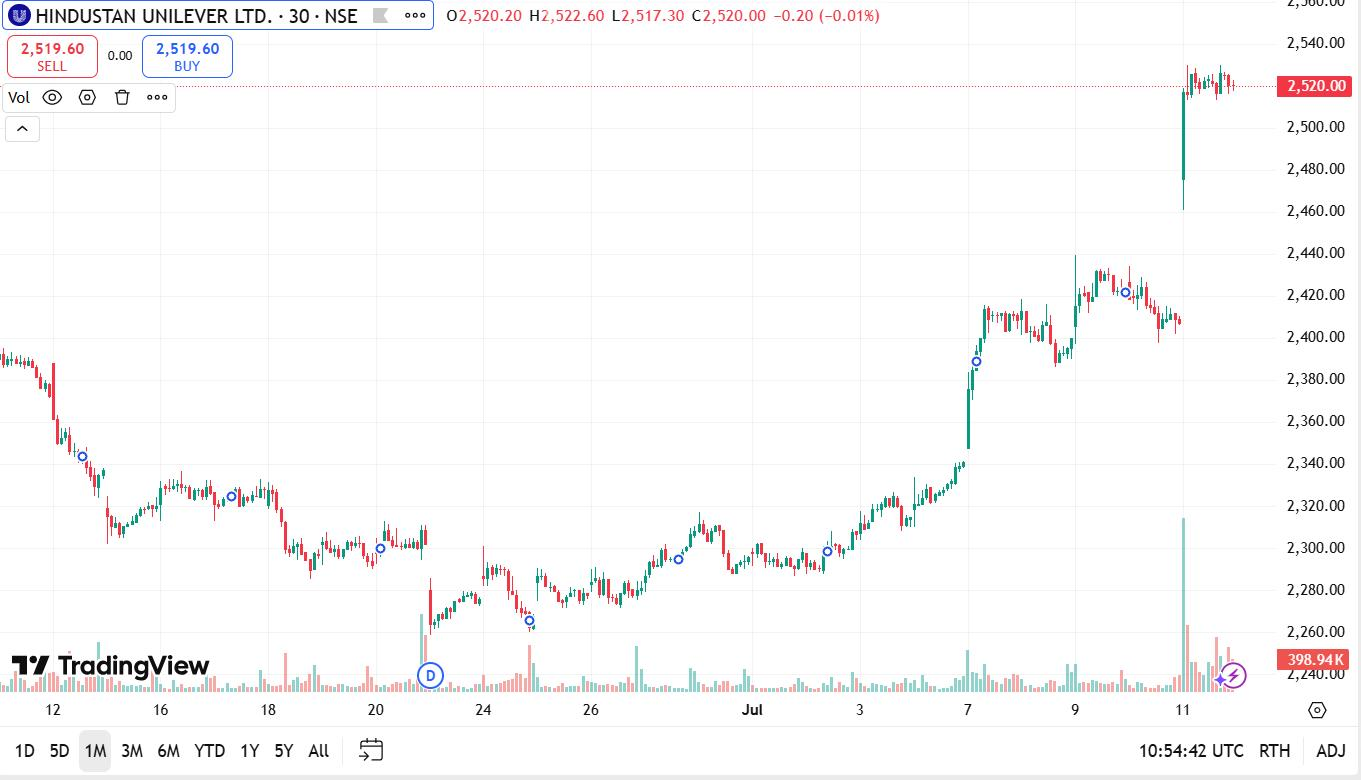Downtrend: (32, 312, 120, 541), (383, 474, 461, 655), (270, 465, 304, 568)
Sideways: (532, 550, 668, 612), (748, 526, 822, 587), (153, 455, 216, 520)
Uptrend: (912, 260, 998, 513), (1147, 37, 1201, 343), (1040, 235, 1089, 375)
